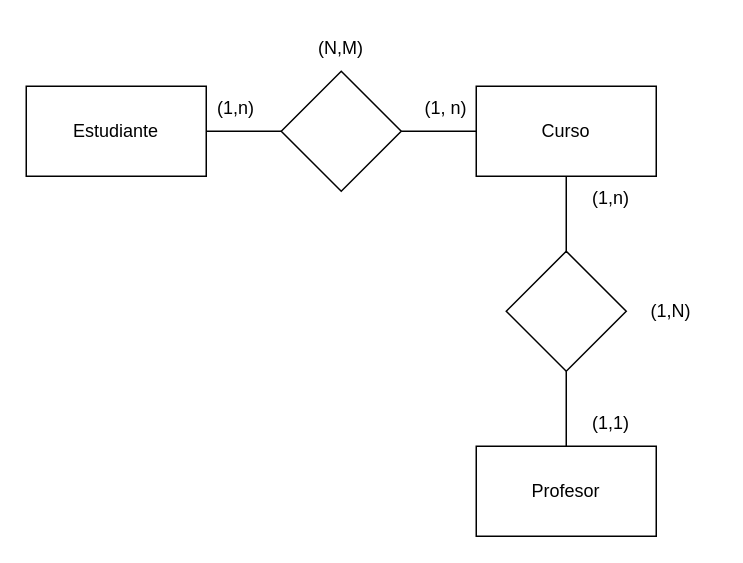
This 743x563 diagram has some shape labels left out. The shapes that lost their labels are listed below. From the top down, each one's box as (x1, y1, x2, y2) in pixels, then its label:
(280, 70, 401, 191): Estudia
(505, 250, 626, 371): Imparte
